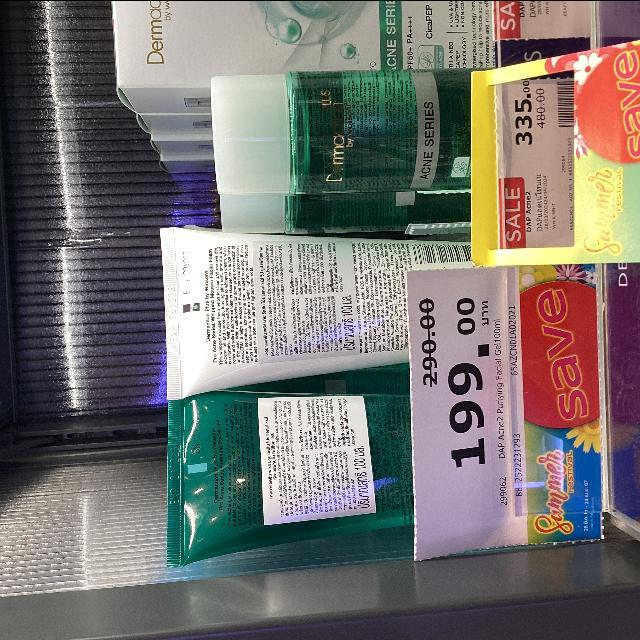Squeeze Tube: (150, 192, 611, 582), (169, 214, 433, 417), (168, 391, 416, 577)
